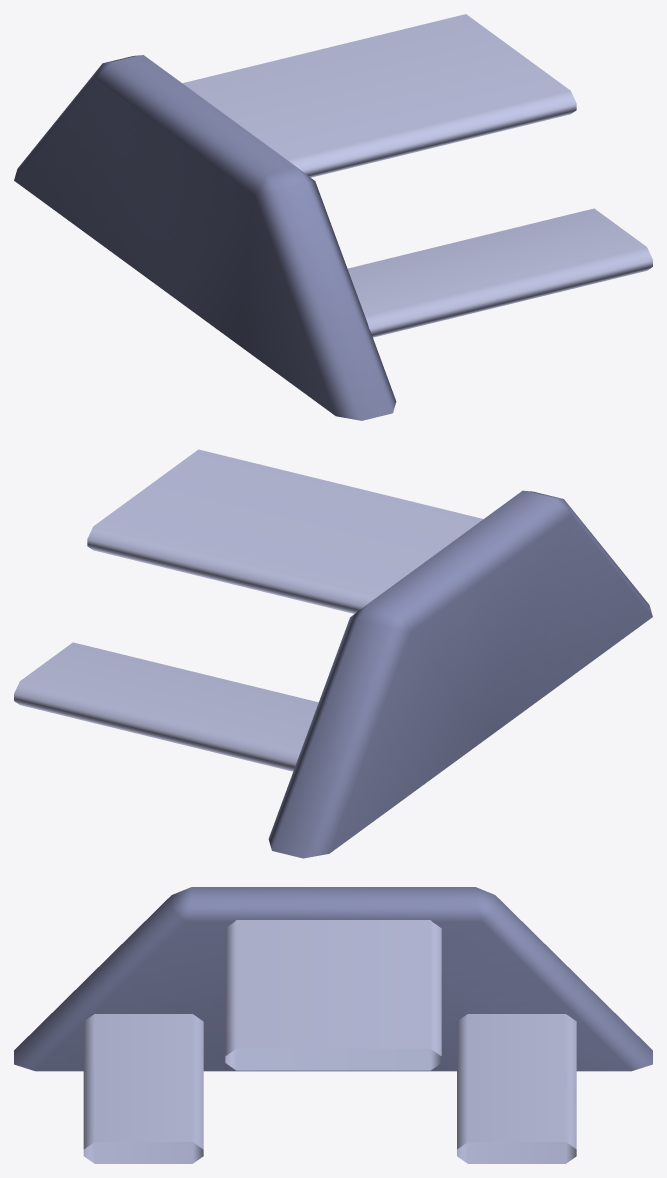
Rendered from Shelf_08.fbx.
The picture shows the model from 3 angles, top to bottom: view 1: azimuth 30°, elevation 25°; view 2: azimuth 150°, elevation 25°; view 3: azimuth 270°, elevation 25°; orthographic projection. The views are drawn at different scales.
Parts seen in each view (by area): view 1: Shelf_08; view 2: Shelf_08; view 3: Shelf_08.
Boxes of the visible parts, x1=… form: Shelf_08: x1=14, y1=14, x2=652, y2=420; Shelf_08: x1=14, y1=449, x2=652, y2=858; Shelf_08: x1=14, y1=887, x2=652, y2=1163.
Bounding box in the file's own units: 192 × 94.17 × 334.
